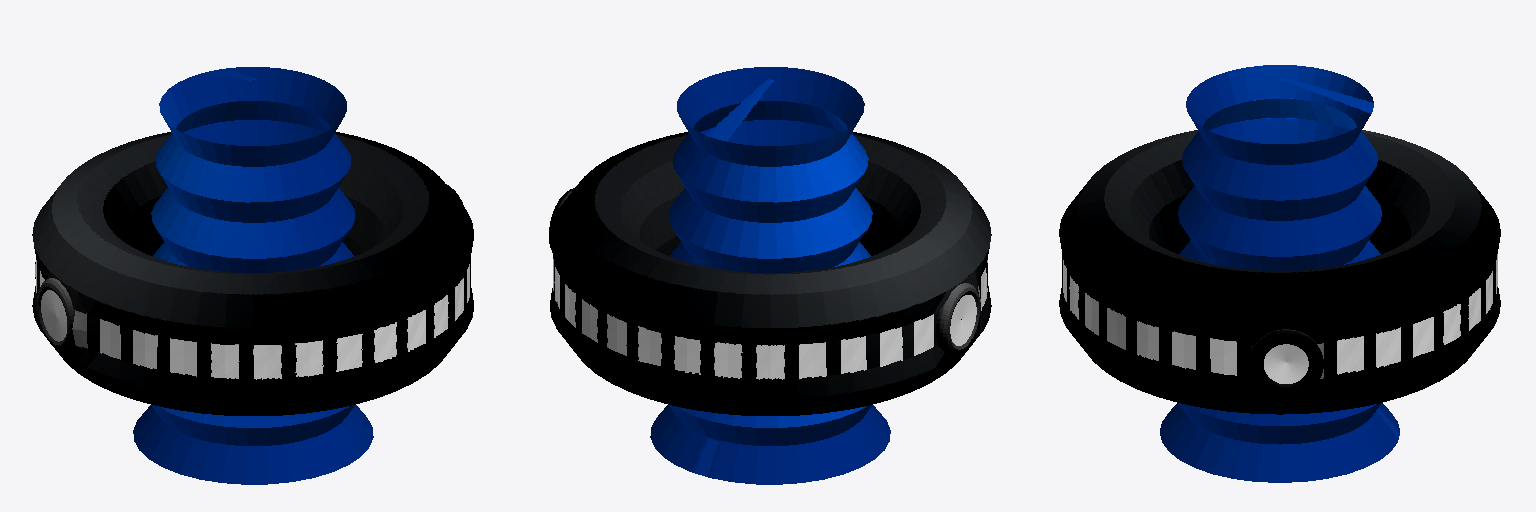
3 views of the same model, side by side, from view 1: azimuth 30°, elevation 25°; view 2: azimuth 150°, elevation 25°; view 3: azimuth 270°, elevation 25° (orthographic).
Visible parts, largest first — view 1: Circle; view 2: Circle; view 3: Circle.
Boxes of the visible parts, <box> form: Circle: <box>32,67,473,484</box>; Circle: <box>549,67,991,484</box>; Circle: <box>1059,65,1500,482</box>.
Bounding box in the file's own units: 7.67 × 6.5 × 7.34.
Materials: 6 (1 with a texture image).